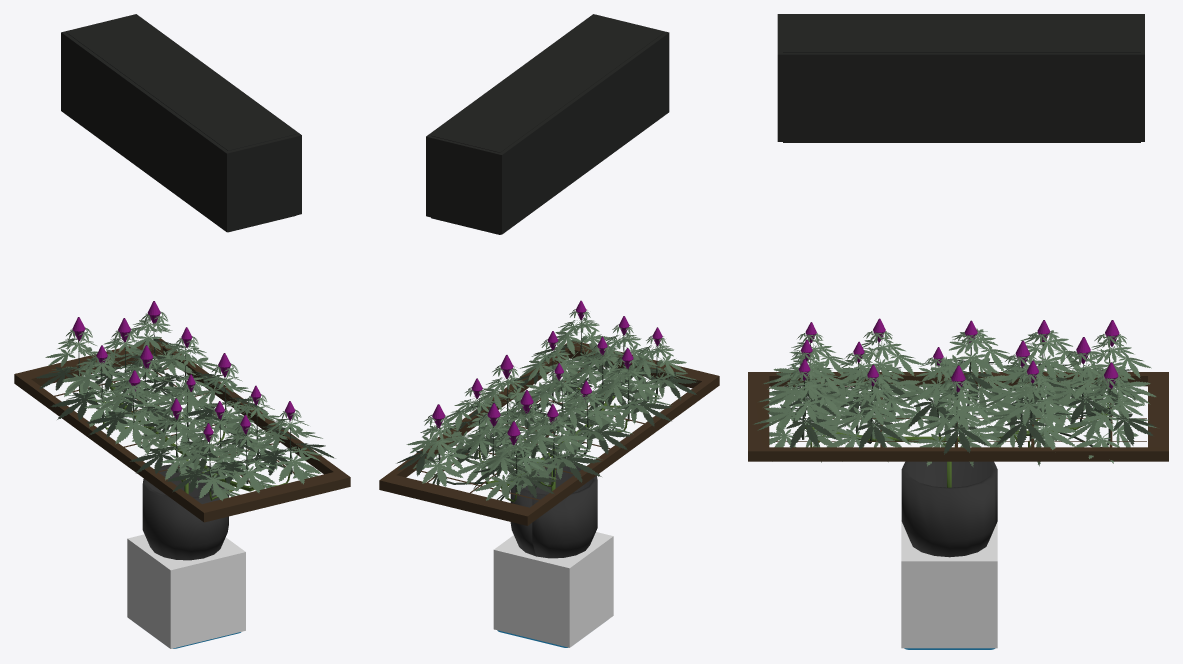
The model's file is ballscrog1.glb.
3 views of the same model, side by side, from view 1: azimuth 30°, elevation 25°; view 2: azimuth 150°, elevation 25°; view 3: azimuth 270°, elevation 25° (orthographic). The views are drawn at different scales.
Parts seen in each view (by area): view 1: Cube.001; view 2: Cube.001; view 3: Cube.001.
Part boxes in pixels (box(x1,y1,x2,y2)): Cube.001: box(14, 14, 350, 648); Cube.001: box(379, 14, 719, 647); Cube.001: box(748, 14, 1168, 648).
Bounding box in the file's own units: 4.54 × 13.67 × 8.74.
Materials: 9 (1 with a texture image).
